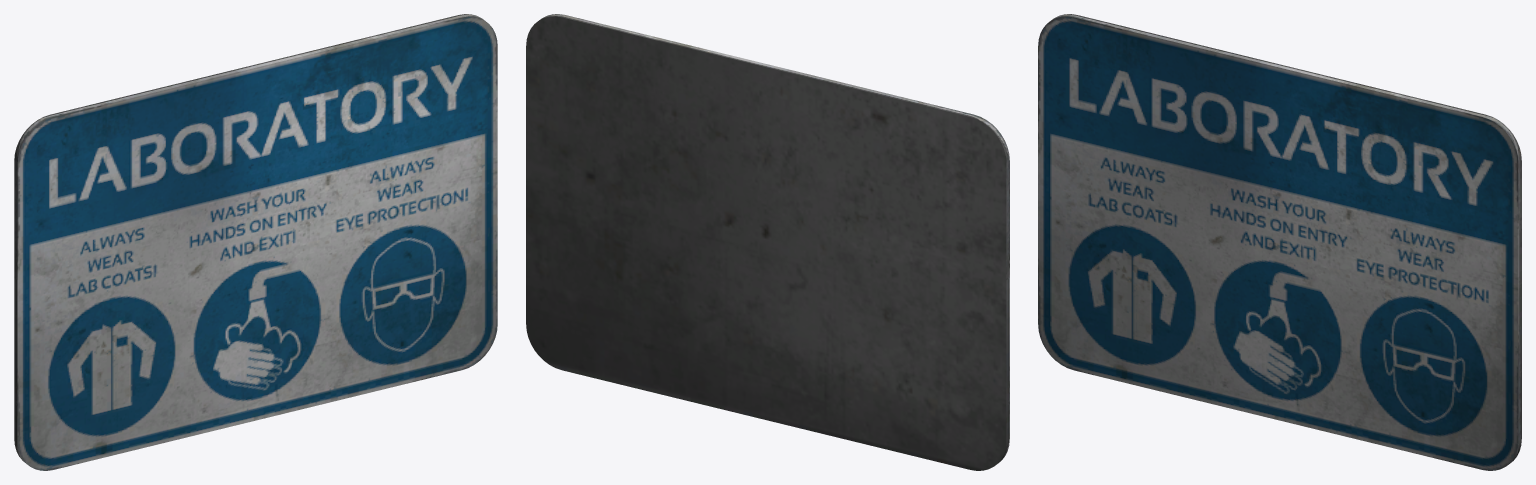
Rendered from sign_warning_lab.dae.
3 renders of one model, left to right at view 1: azimuth 30°, elevation 25°; view 2: azimuth 150°, elevation 25°; view 3: azimuth 330°, elevation 25°, orthographic.
Visible parts, largest first — view 1: sign_warning_lab; view 2: sign_warning_lab; view 3: sign_warning_lab.
Boxes of the visible parts, box(x1,y1,x2,y2) form: sign_warning_lab: box(14, 14, 497, 470); sign_warning_lab: box(526, 14, 1009, 470); sign_warning_lab: box(1038, 14, 1521, 470).
Bounding box in the file's own units: 0.3985 × 0.2798 × 0.00488.
